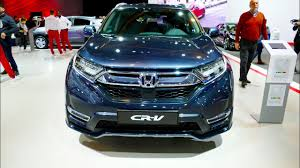Honda: (66, 2, 233, 141)
